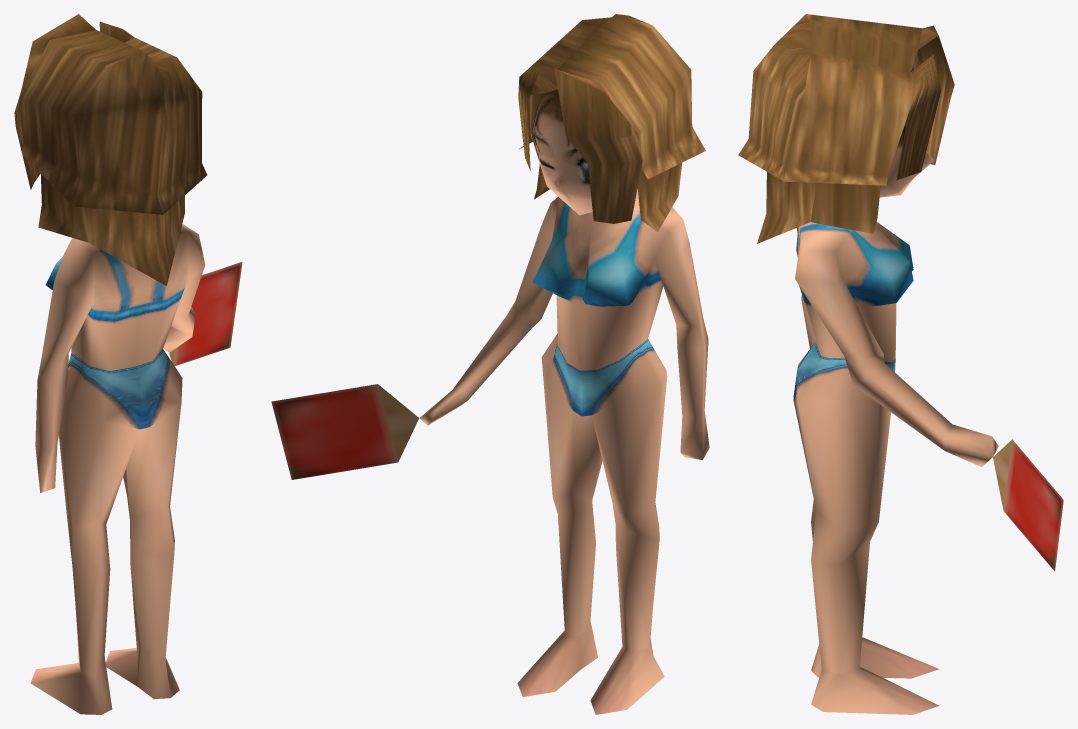
Rendered from icon.ico.obj.
3 renders of one model, left to right at view 1: azimuth 30°, elevation 25°; view 2: azimuth 150°, elevation 25°; view 3: azimuth 270°, elevation 25°, orthographic. The views are drawn at different scales.
Bounding box in the file's own units: 2.45 × 4.77 × 2.12.
1 material, 1 textured.
